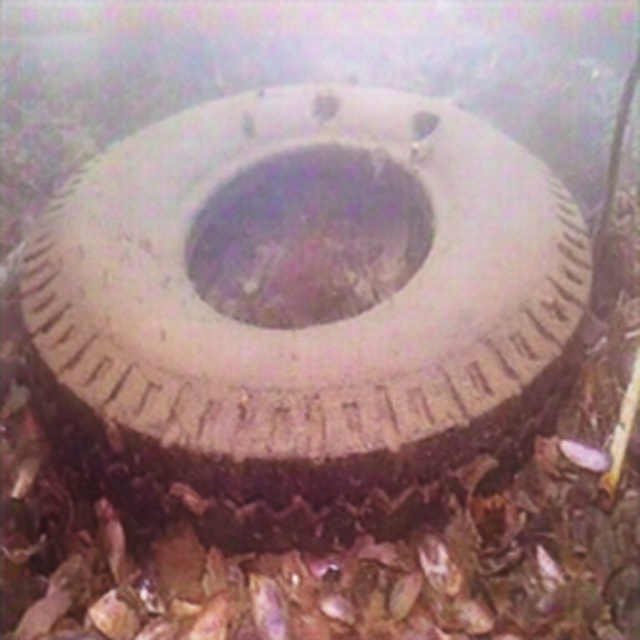mine: (19, 82, 593, 552)
